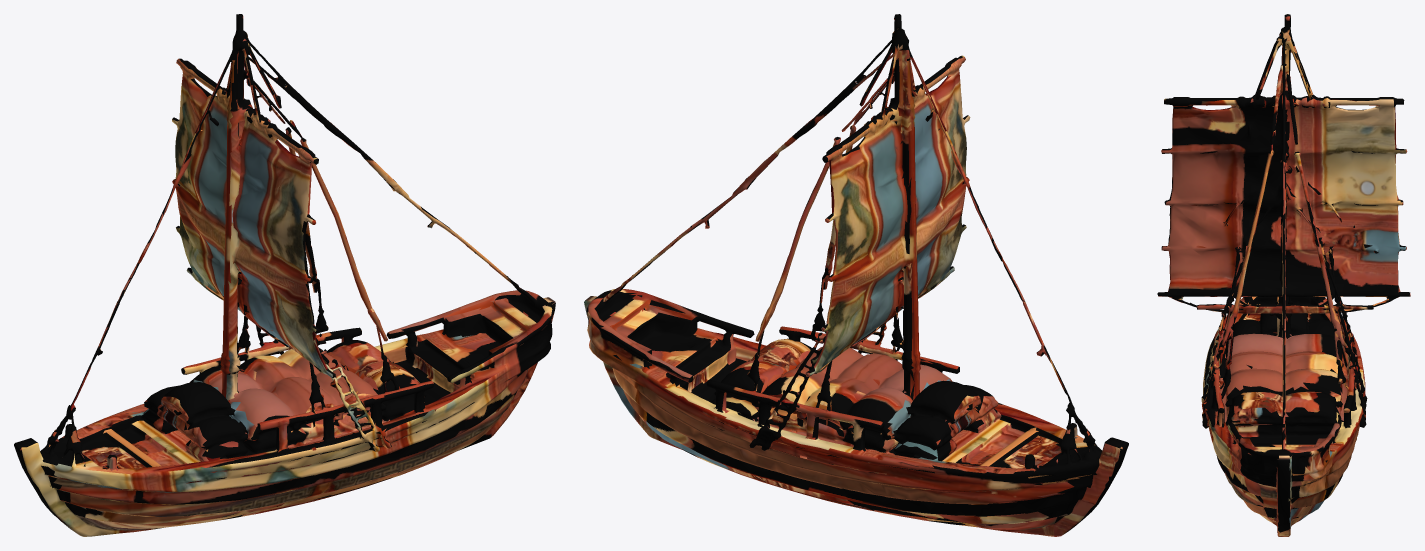
The model's file is MDL_Environment_Other_Vessel_Vessel.fbx.
The picture shows the model from 3 angles, left to right: view 1: azimuth 30°, elevation 25°; view 2: azimuth 150°, elevation 25°; view 3: azimuth 270°, elevation 25°; orthographic projection. The views are drawn at different scales.
Parts seen in each view (by area): view 1: Mesh_0; view 2: Mesh_0; view 3: Mesh_0.
Part boxes in pixels (<box>): Mesh_0: <box>14,14,555,536</box>; Mesh_0: <box>584,14,1128,536</box>; Mesh_0: <box>1157,14,1410,536</box>.
Size of the model in its own units: 191 by 169 by 89.99.
